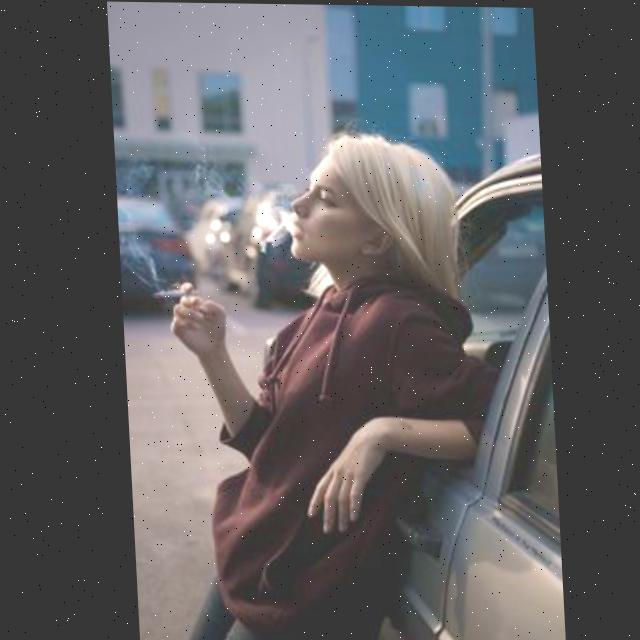cigarette: (150, 288, 196, 298)
